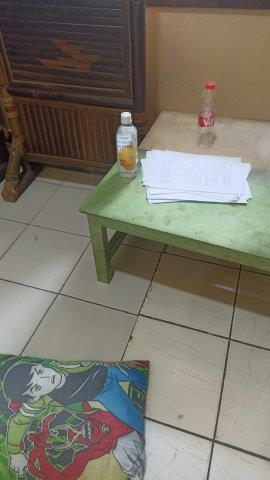botolplastik: (114, 112, 138, 181), (197, 82, 219, 147)
kertas: (141, 146, 255, 210)
